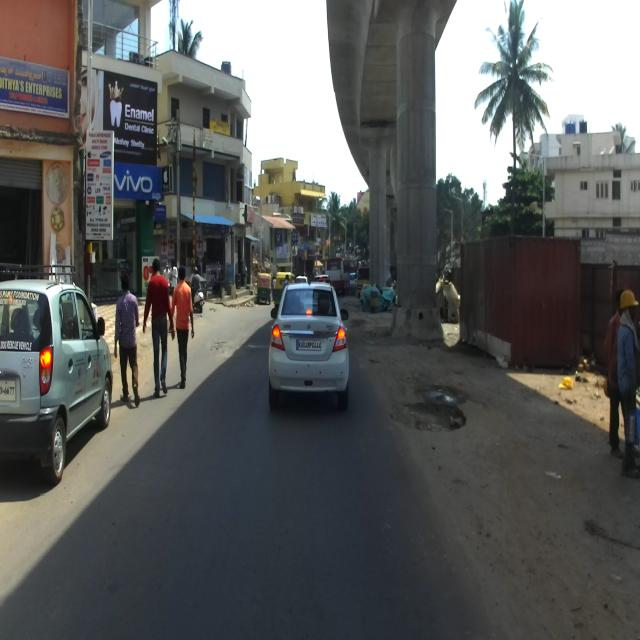car ahead at: (0, 279, 113, 484), (269, 275, 351, 398)
pillar ahead at: (392, 12, 450, 350)
